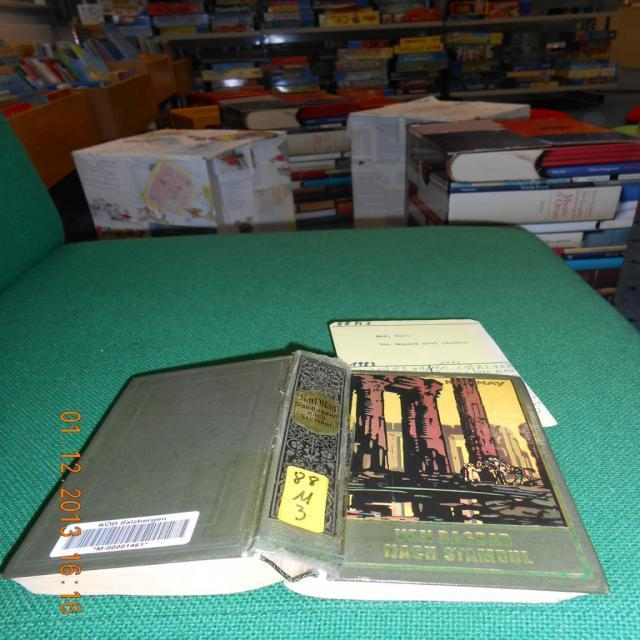book: (1, 341, 615, 604)
